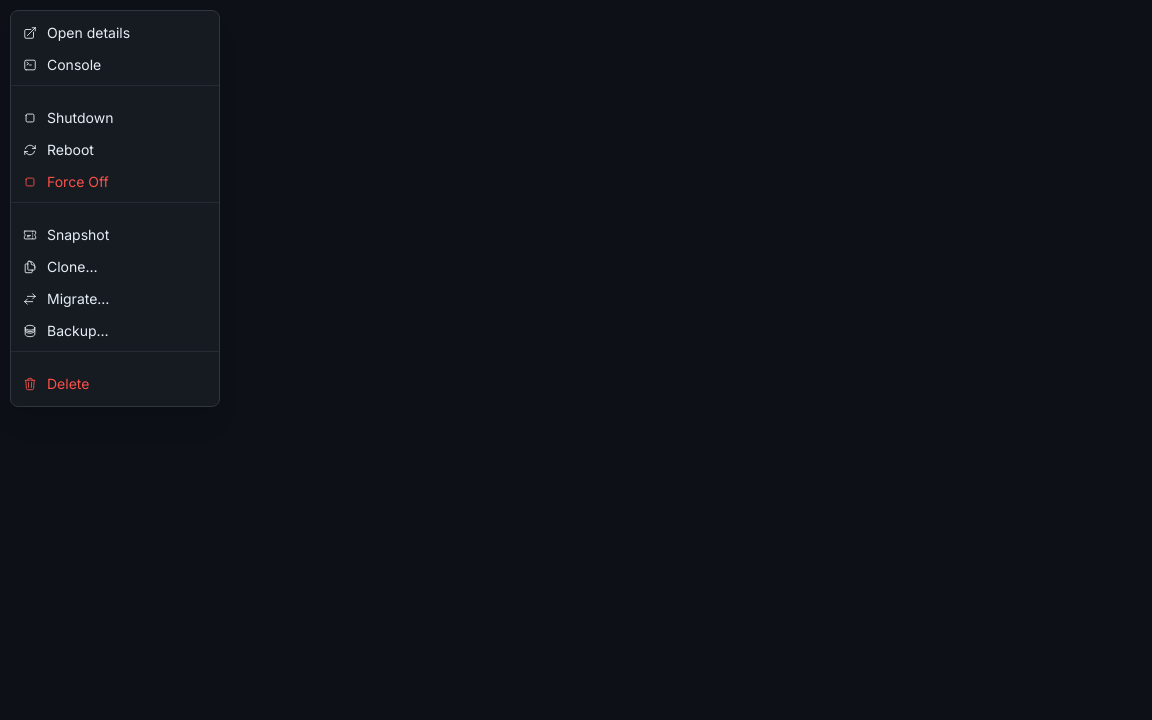
Test: ResourceContextMenu (StrictMode=true) › VM migrate opens its modal
The width and height of the screenshot is (1152, 720).
Click the menu item "Migrate…" at (115, 299), box [11, 283, 219, 315]
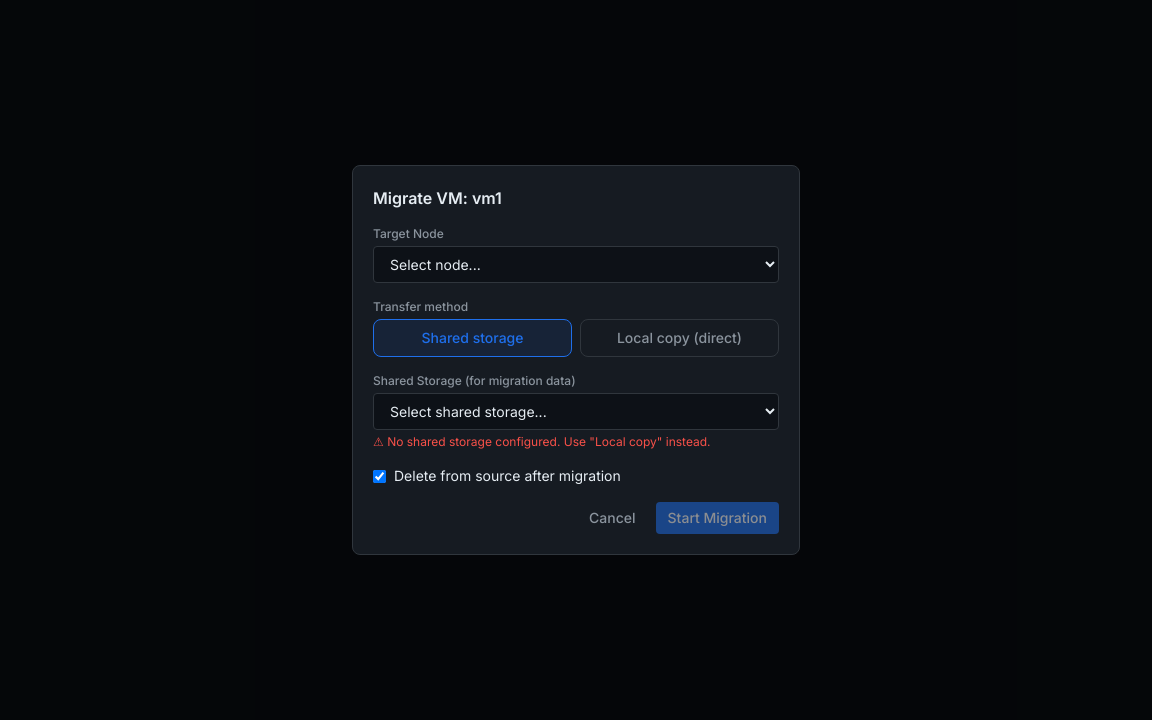
Expected: the heading "Migrate VM: vm1" is shown, [373, 188, 502, 208]
